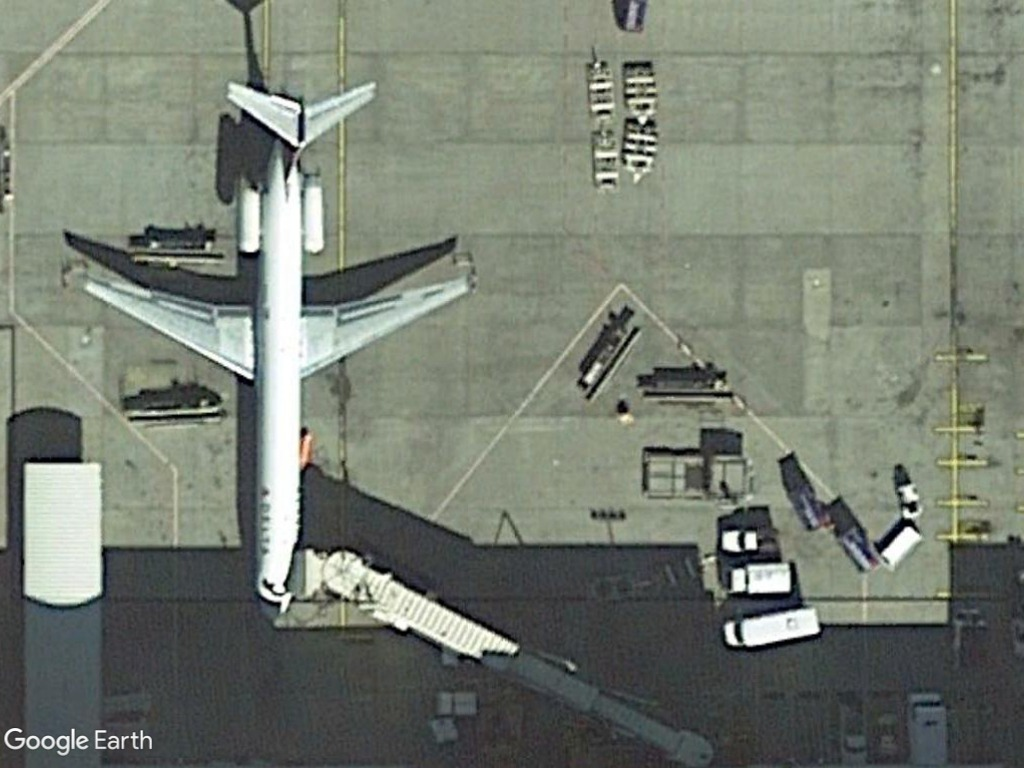chartered: (60, 76, 481, 620)
truck: (719, 560, 798, 602)
van: (718, 604, 822, 658)
